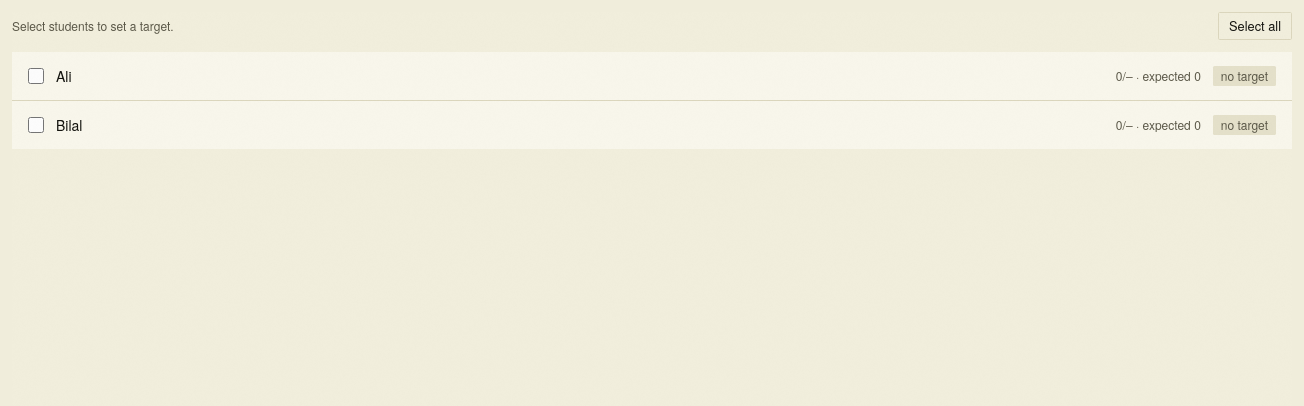
Test case: HifzRegister — one student › presets count from the student's own start and save sends start + count
Click the checkbox named "Select Bilal" at {"x": 36, "y": 125}, box [28, 117, 44, 133]
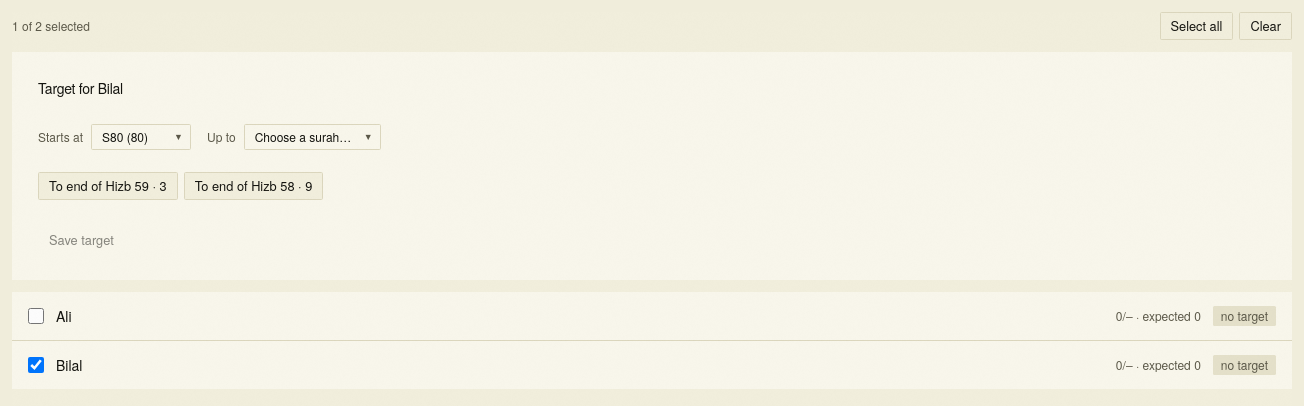
Bilal starts at 80, inside hizb 59 — finishing it is 3 surahs.
Click the button "To end of Hizb 59 · 3" at {"x": 108, "y": 186}, box [38, 172, 178, 200]
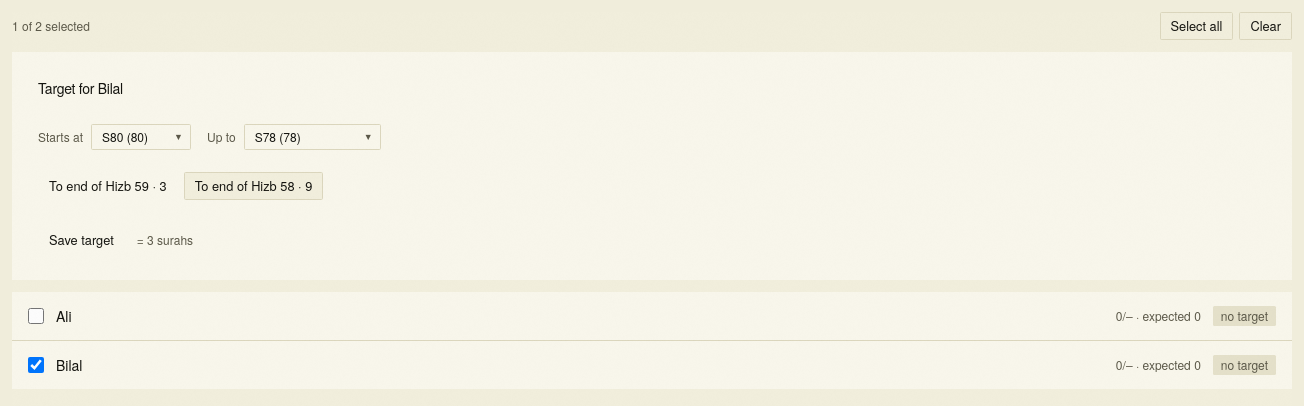
Click the button "Save target" at {"x": 81, "y": 240}, box [38, 226, 125, 254]
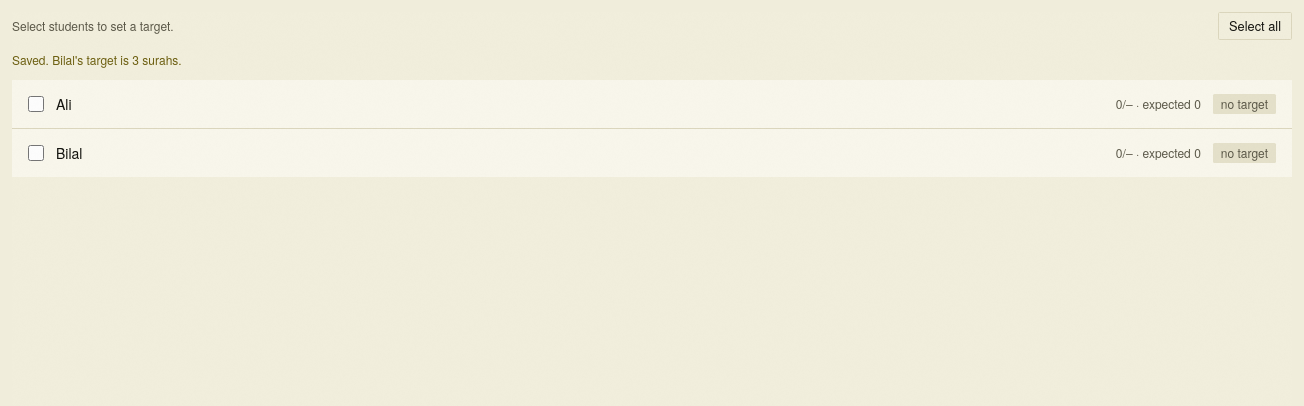
Check: the text "Saved. Bilal's target is 3 surahs." is shown, box [12, 51, 182, 68]
